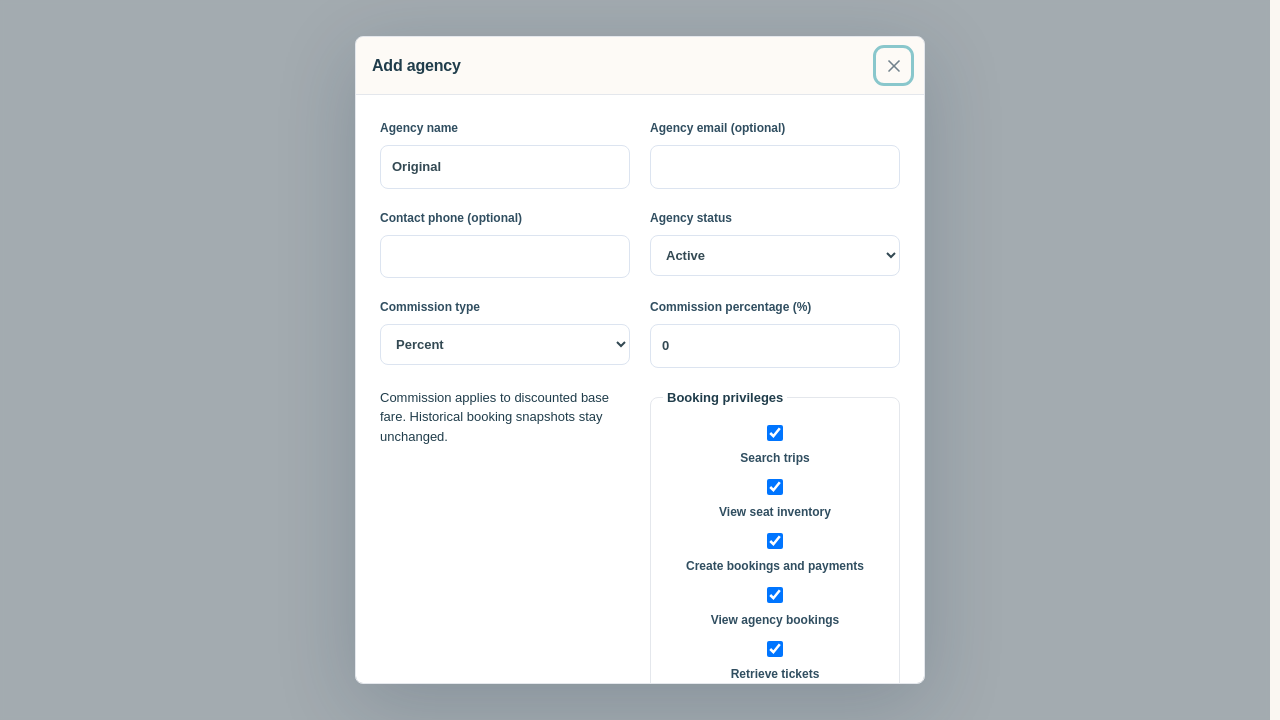
validates commissions and keeps drafts after failure
This screenshot has width=1280, height=720.
Replace the text in the number field labelled "Commission percentage (%)" with "101": (775, 346) [650,324,900,368]
(page scrolled)
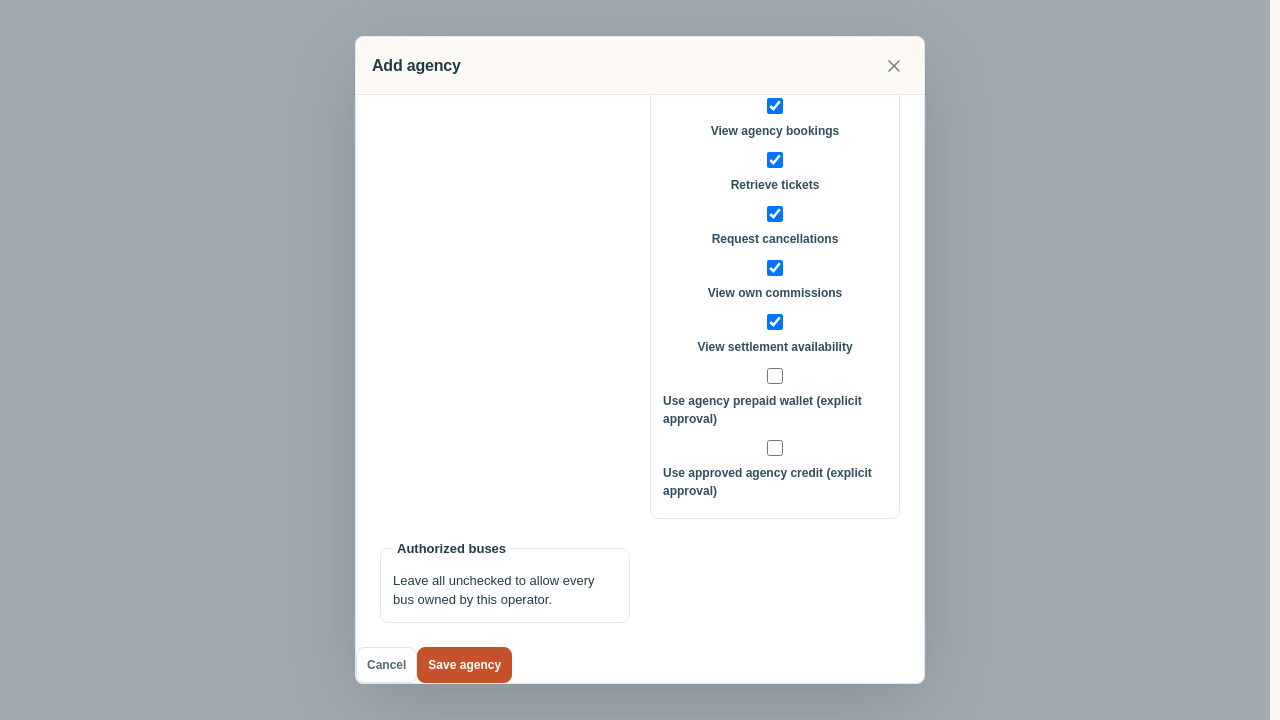
Click the button "Save agency": (465, 664) [417,646,512,682]
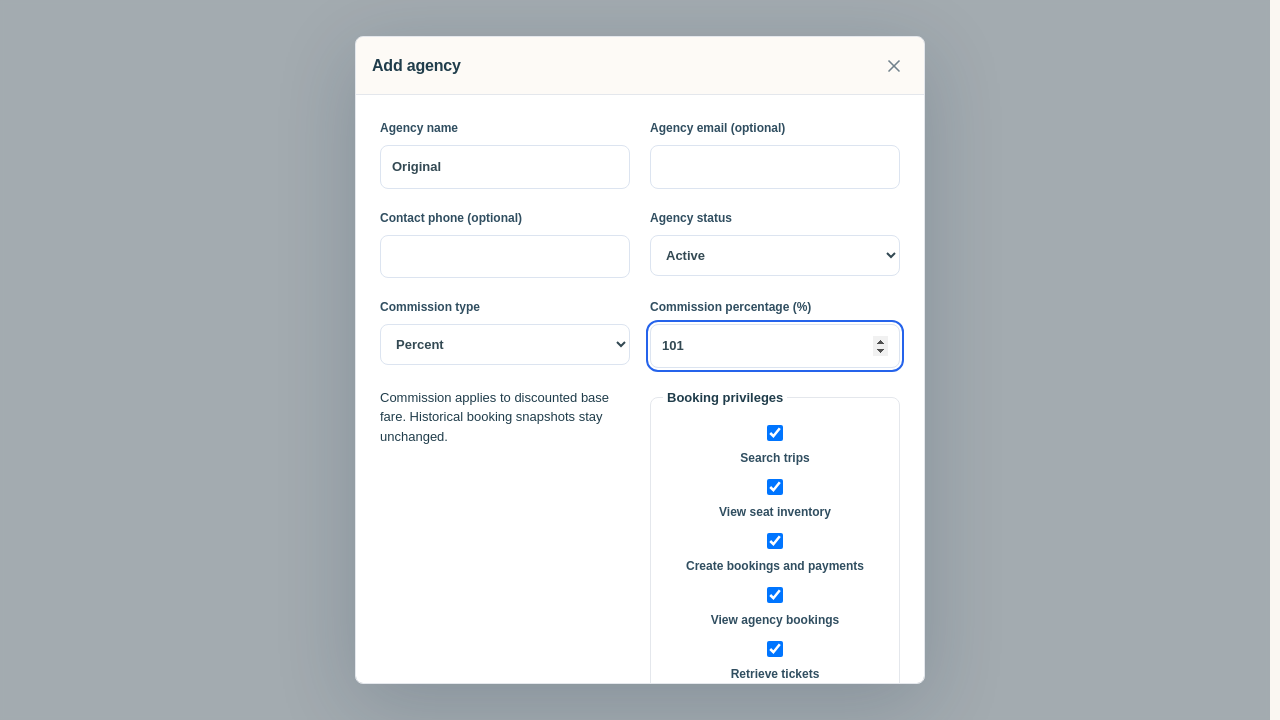
Replace the text in the number field labelled "Commission percentage (%)" with "5": (775, 346) [650,324,900,368]
(page scrolled)
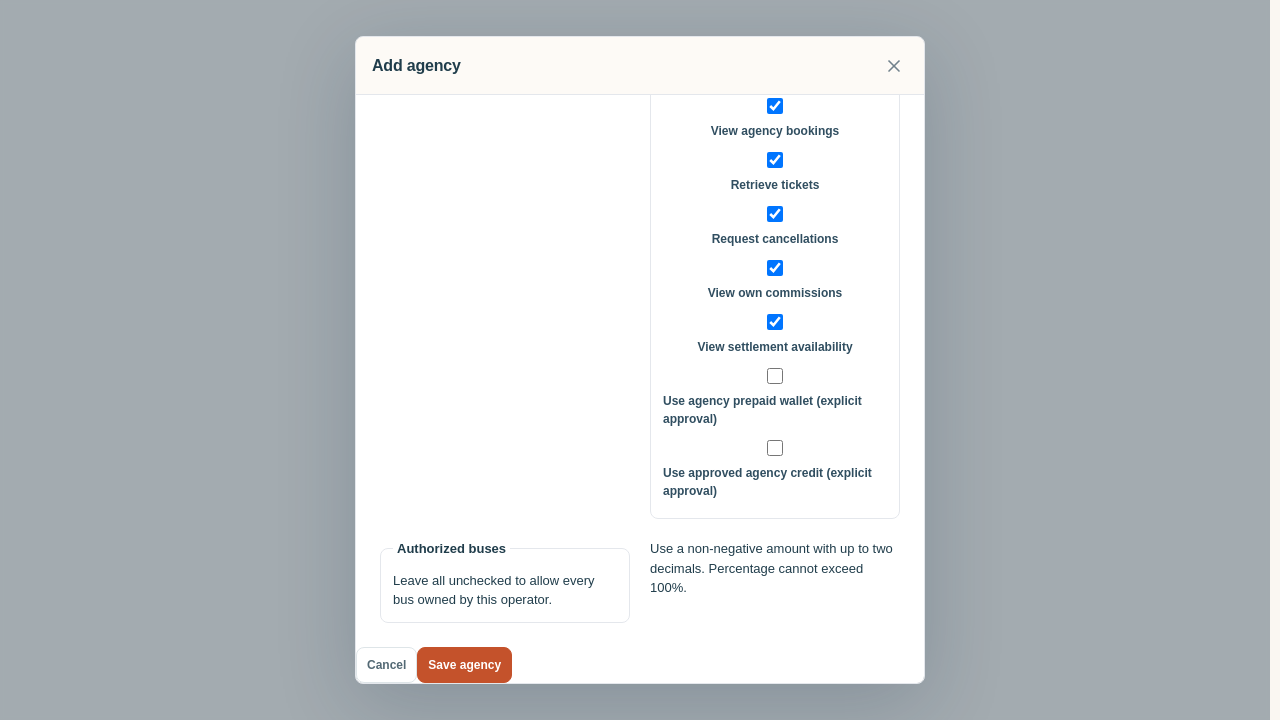
Click the button "Save agency": (465, 664) [417,646,512,682]
(page scrolled)
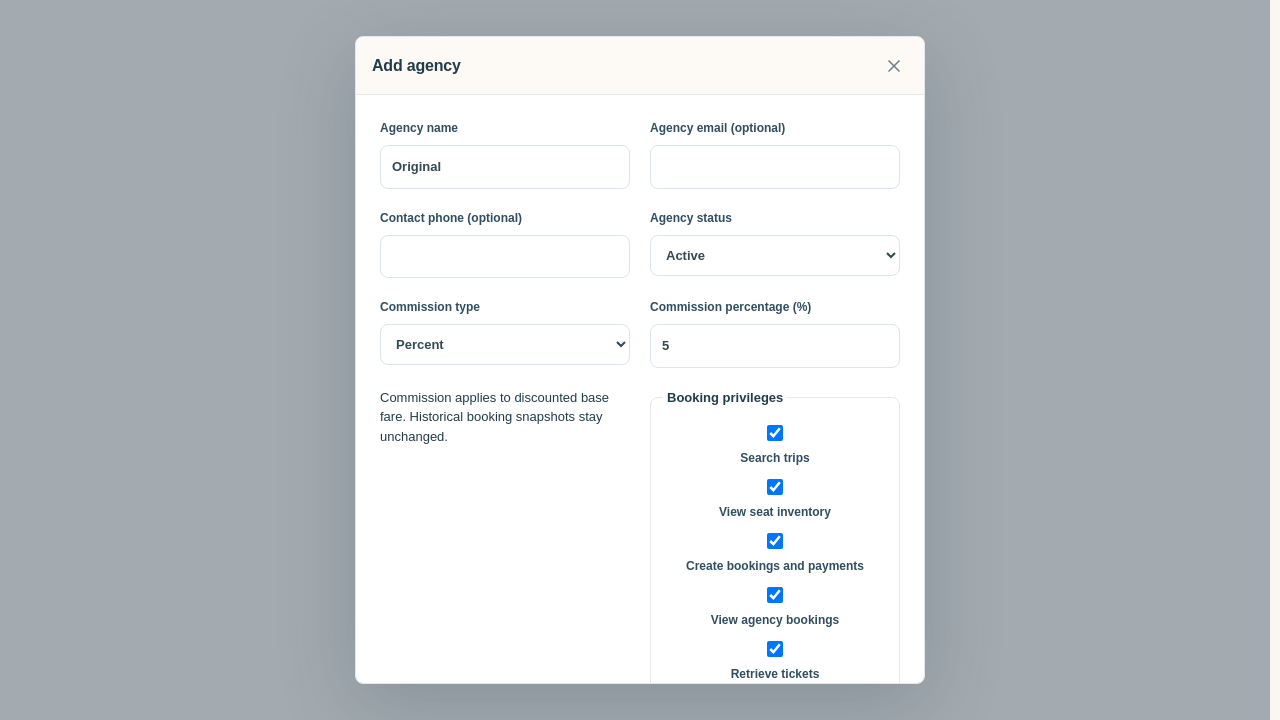
Expected: the field labelled "Agency name" holds "Original", [380,145,630,188]
